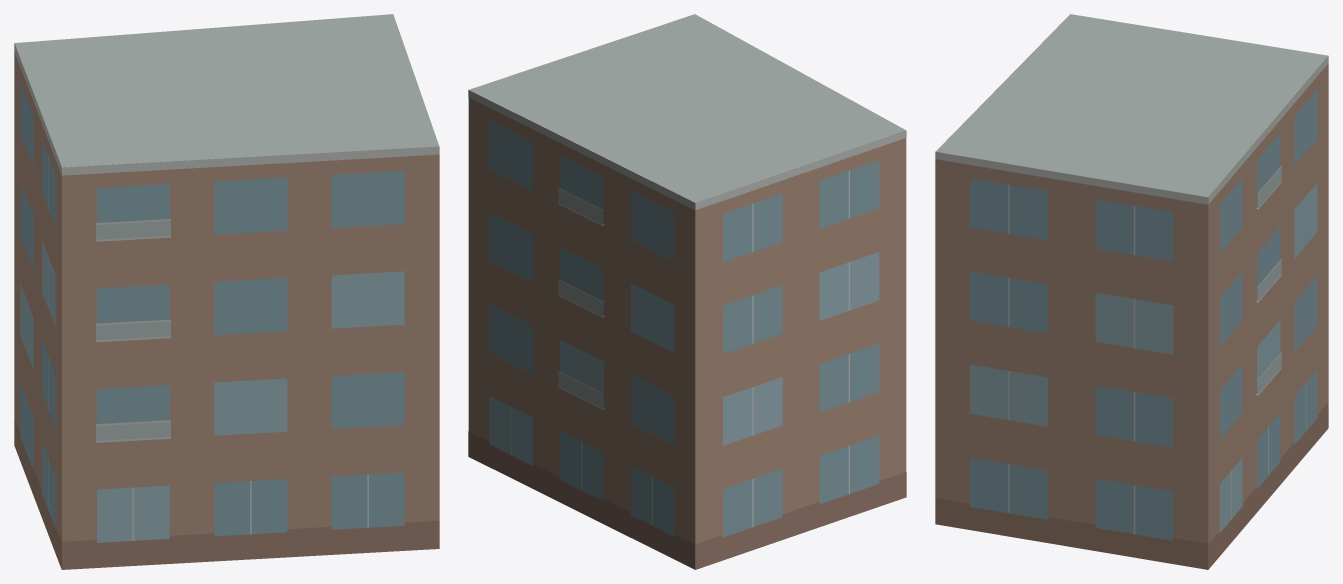
The model's file is survey-upis-33023110.glb.
3 renders of one model, left to right at view 1: azimuth 30°, elevation 25°; view 2: azimuth 150°, elevation 25°; view 3: azimuth 270°, elevation 25°, orthographic. The views are drawn at different scales.
Visible parts, largest first — view 1: survey-upis-33023110.tmp; view 2: survey-upis-33023110.tmp; view 3: survey-upis-33023110.tmp.
Part boxes in pixels (<box>): survey-upis-33023110.tmp: <box>14,14,439,569</box>; survey-upis-33023110.tmp: <box>468,14,906,569</box>; survey-upis-33023110.tmp: <box>935,14,1328,569</box>.
Size of the model in its own units: 12.89 by 12.2 by 11.68.
